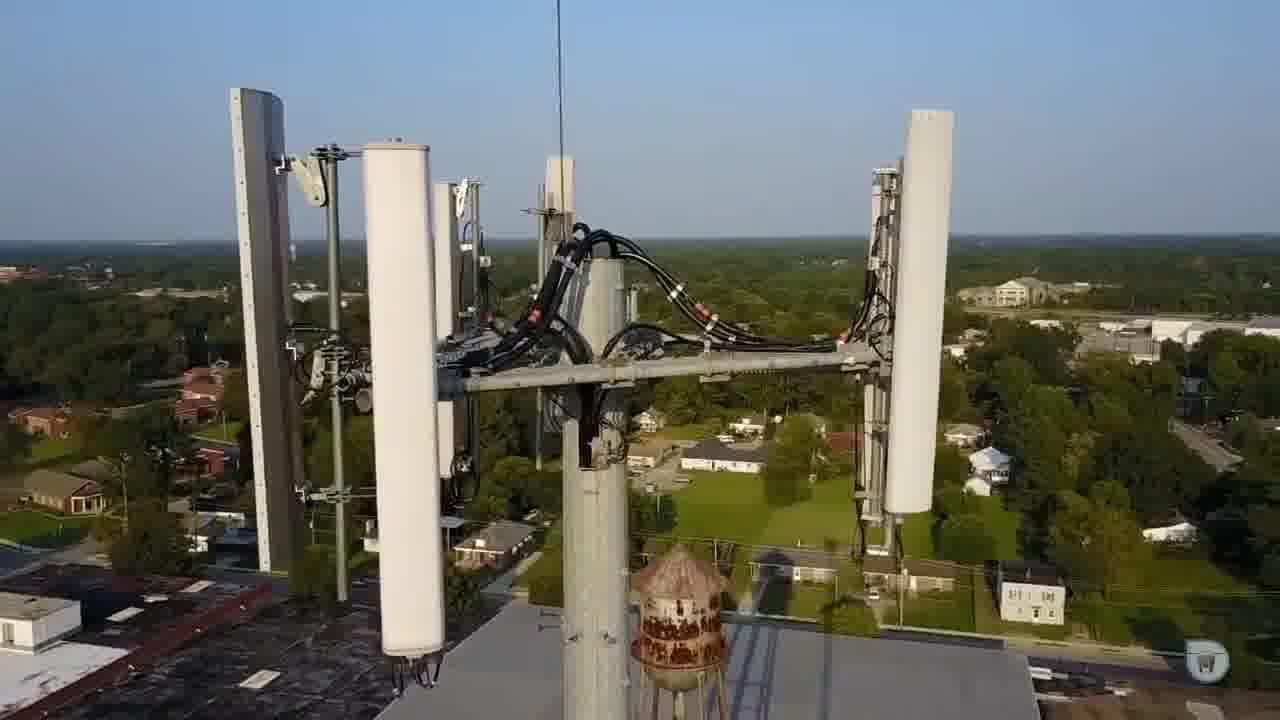antenna: (333, 131, 462, 662), (214, 77, 307, 586), (867, 84, 966, 529), (437, 173, 478, 483), (865, 159, 886, 535), (541, 149, 578, 315)
